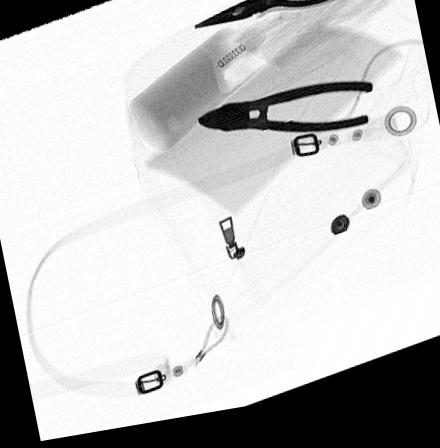Pliers: (195, 92, 373, 143), (192, 0, 356, 35)
